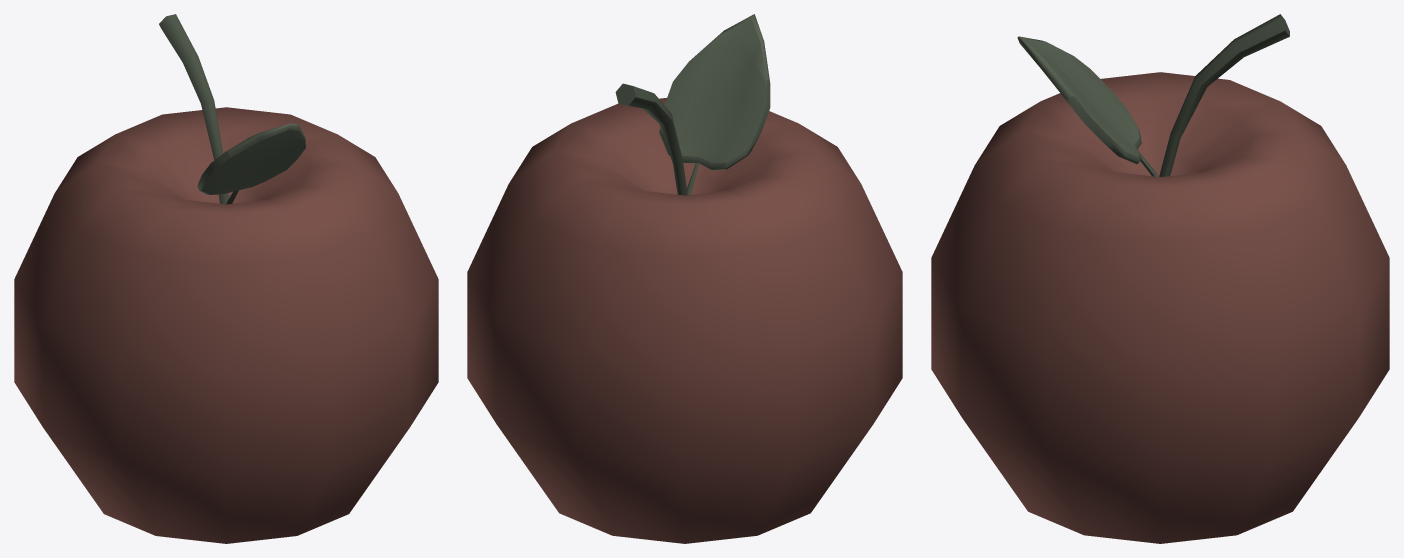
File: pomme.fbx
3 renders of one model, left to right at view 1: azimuth 30°, elevation 25°; view 2: azimuth 150°, elevation 25°; view 3: azimuth 270°, elevation 25°, orthographic. The views are drawn at different scales.
Visible parts, largest first — view 1: polySurface4; view 2: polySurface4; view 3: polySurface4.
Part boxes in pixels (x1,y1,x2,y2): polySurface4: (14, 14, 438, 543); polySurface4: (467, 14, 902, 543); polySurface4: (931, 14, 1389, 543).
Bounding box in the file's own units: 20 × 23 × 20.
